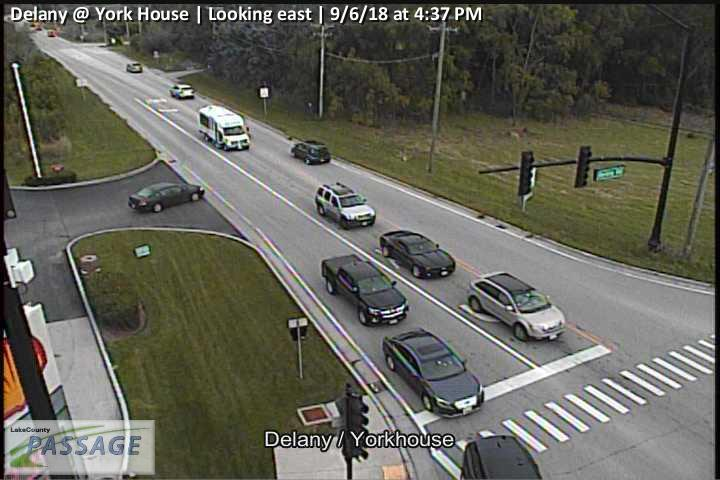SUV: (468, 271, 566, 343), (315, 182, 376, 230), (290, 139, 331, 165), (169, 84, 194, 98), (126, 62, 142, 72)
Sedan: (383, 327, 485, 419), (380, 230, 456, 279), (129, 182, 205, 213)
Truck: (322, 254, 408, 326), (199, 105, 250, 152)
